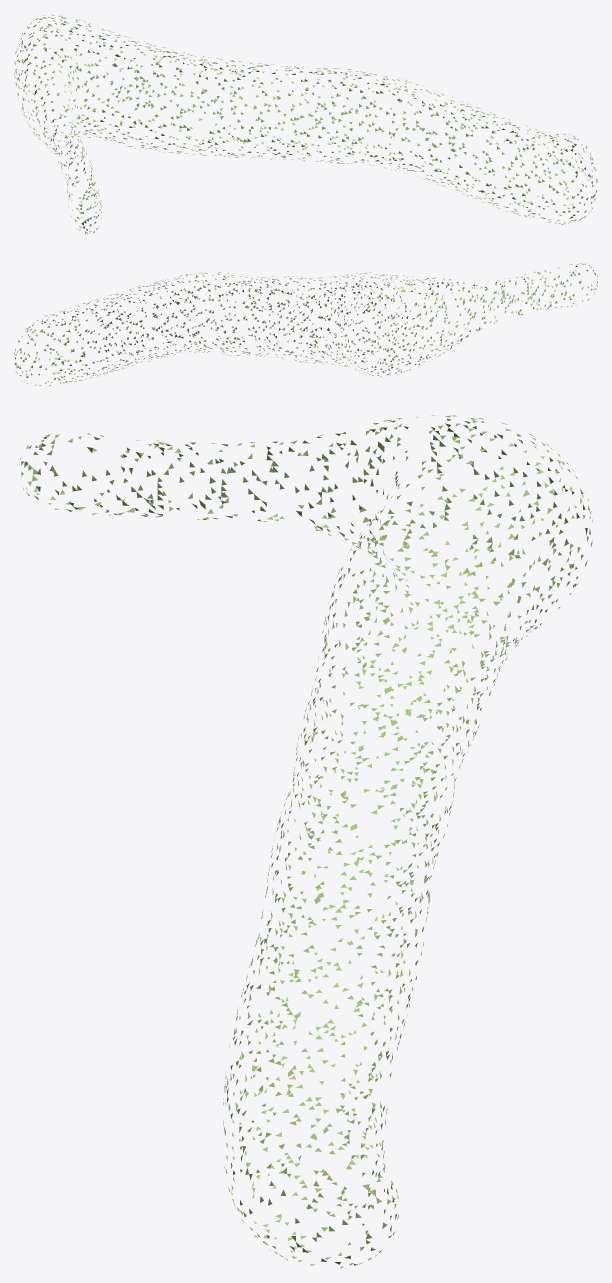
The model's file is morph_012.glb.
3 renders of one model, top to bottom at view 1: azimuth 30°, elevation 25°; view 2: azimuth 150°, elevation 25°; view 3: azimuth 270°, elevation 25°, orthographic. The views are drawn at different scales.
Bounding box in the file's own units: 125 × 54.64 × 62.2.
